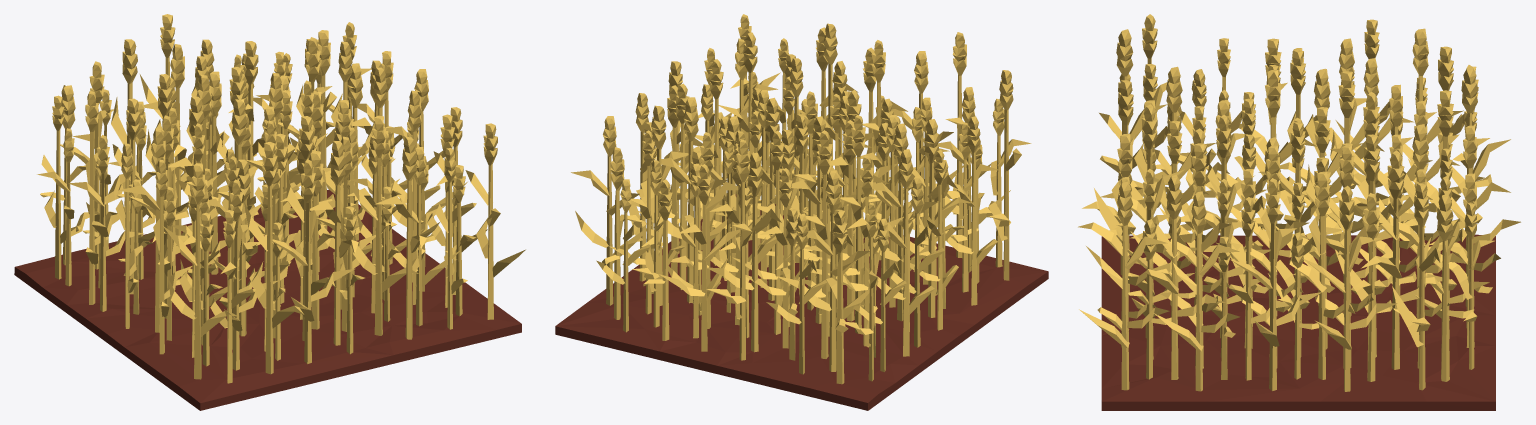
File: wheatfield.fbx
The picture shows the model from 3 angles, left to right: view 1: azimuth 30°, elevation 25°; view 2: azimuth 150°, elevation 25°; view 3: azimuth 270°, elevation 25°; orthographic projection. The views are drawn at different scales.
Visible parts, largest first — view 1: Wheatfield; view 2: Wheatfield; view 3: Wheatfield.
Boxes of the visible parts, x1,y1,x2,y2 form: Wheatfield: (14, 14, 525, 410); Wheatfield: (555, 14, 1048, 410); Wheatfield: (1078, 14, 1520, 410).
Size of the model in its own units: 220 by 146 by 230.
